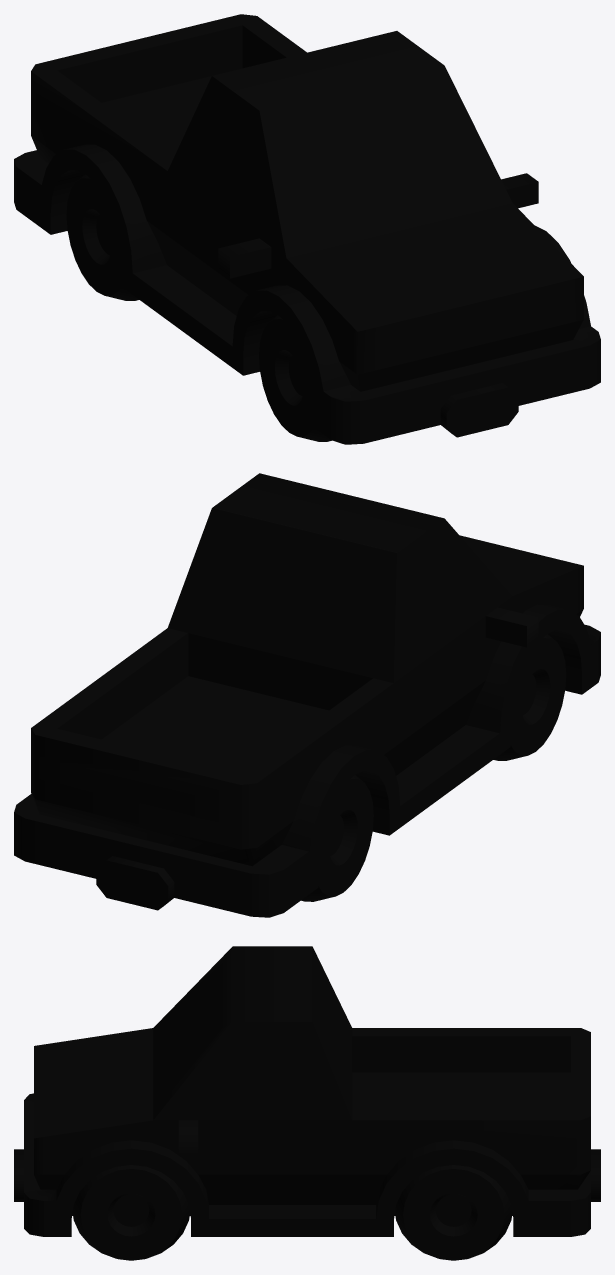
The model's file is truck.glb.
The picture shows the model from 3 angles, top to bottom: view 1: azimuth 30°, elevation 25°; view 2: azimuth 150°, elevation 25°; view 3: azimuth 270°, elevation 25°; orthographic projection. The views are drawn at different scales.
Parts seen in each view (by area): view 1: body, wheel-front-right (×2); view 2: body, wheel-front-right (×2); view 3: body, wheel-front-left (×2).
Boxes of the visible parts, <box> form: body: <box>14,14,600,444</box>; wheel-front-right (×2): <box>66,174,331,441</box>; body: <box>14,473,600,917</box>; wheel-front-right (×2): <box>301,634,566,901</box>; body: <box>14,946,600,1236</box>; wheel-front-left (×2): <box>72,1165,512,1260</box>.
Size of the model in its own units: 1.5 by 1.3 by 2.95.
Materials: 1 (1 with a texture image).
